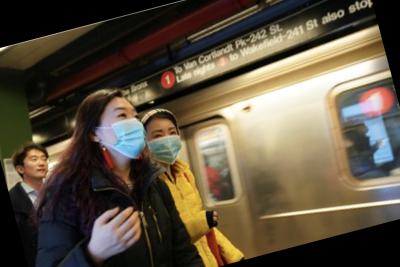with_mask: (96, 101, 153, 167), (144, 123, 189, 172)
without_mask: (22, 150, 53, 181)
